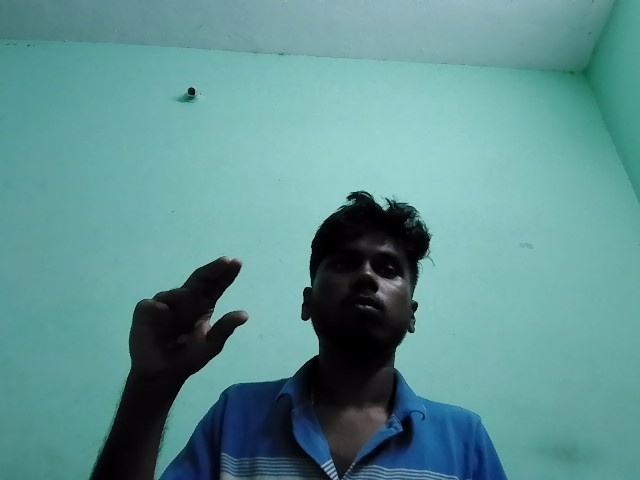No: (101, 244, 266, 398)
